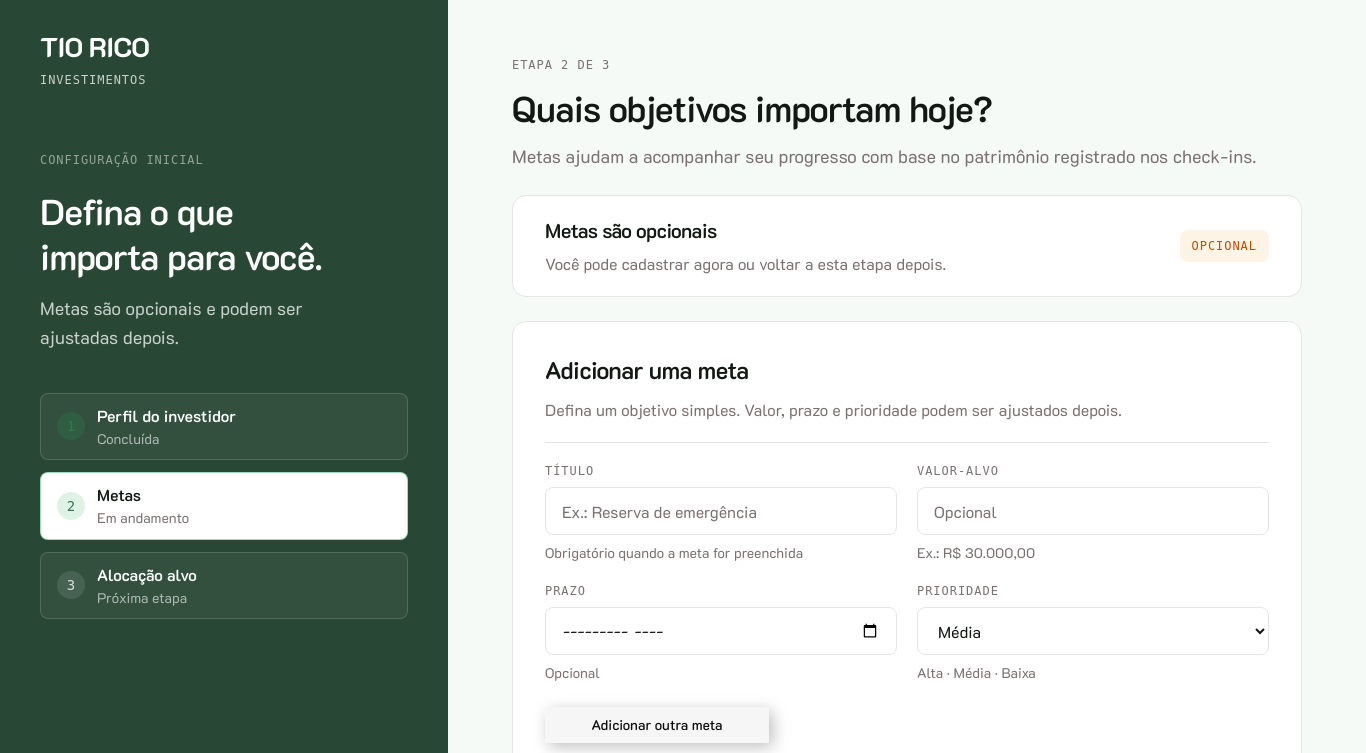
OnboardingSecondStep › meta com valor e sem título: erro embaixo do campo, marcado e com foco (#50)
Type "30000" into the field labelled "Valor-alvo" at (1093,511), box left=917, top=487, right=1269, bottom=535
(page scrolled)
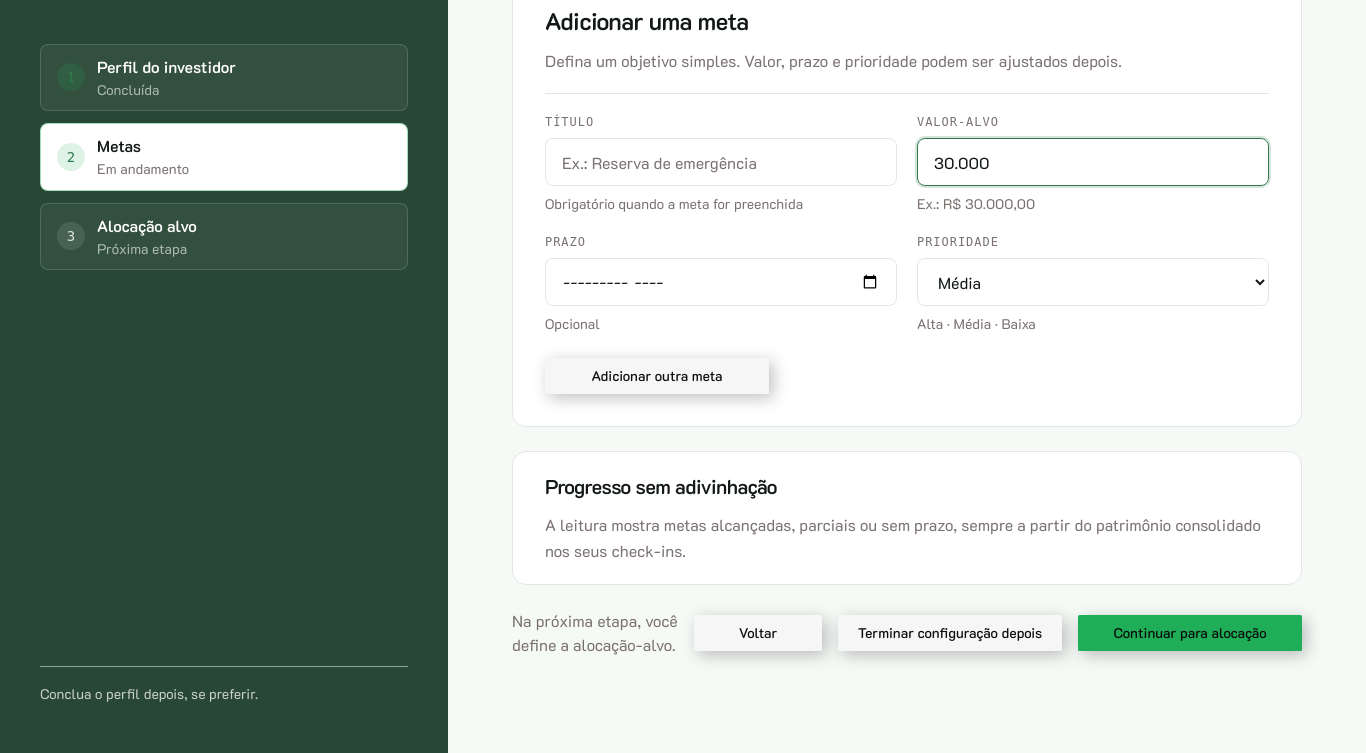
Click the button "Continuar para alocação" at (1190,633), box left=1078, top=615, right=1302, bottom=651
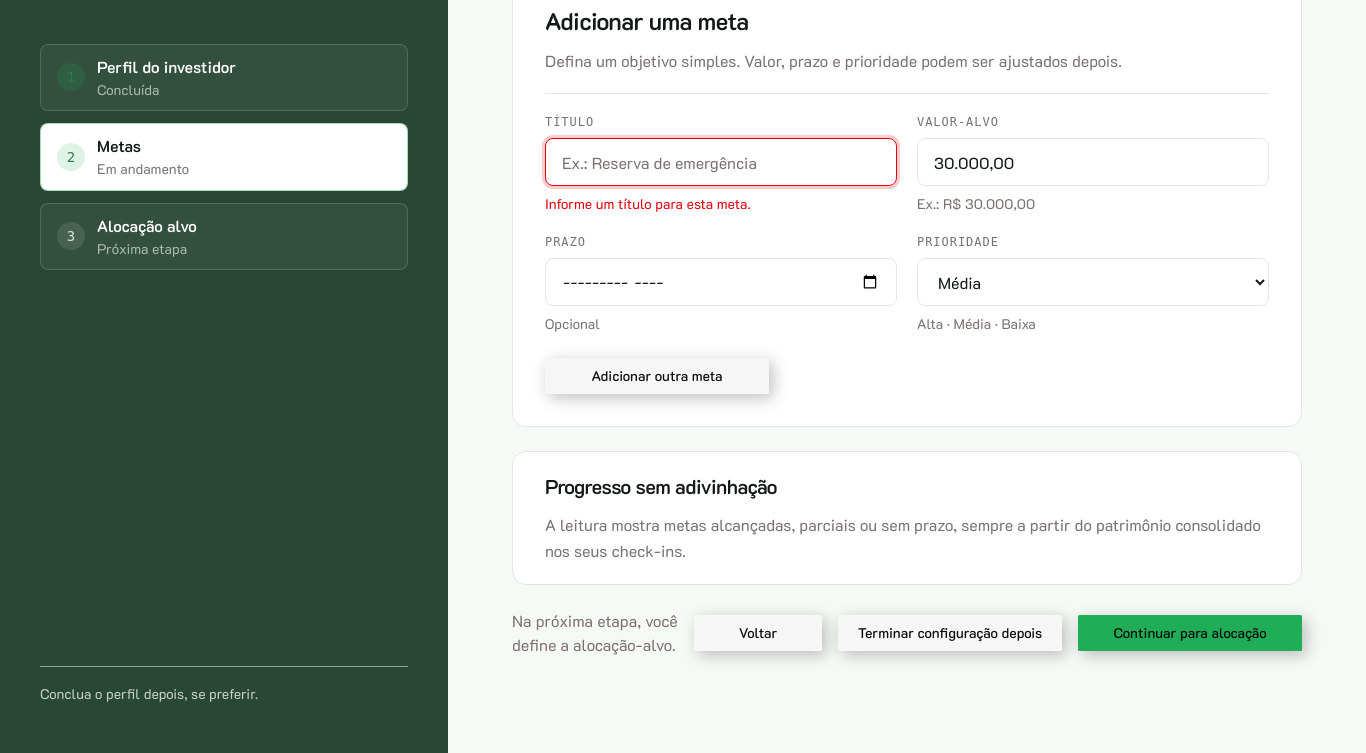
Result: the text "Informe um título para esta meta." is shown at left=545, top=194, right=750, bottom=213
